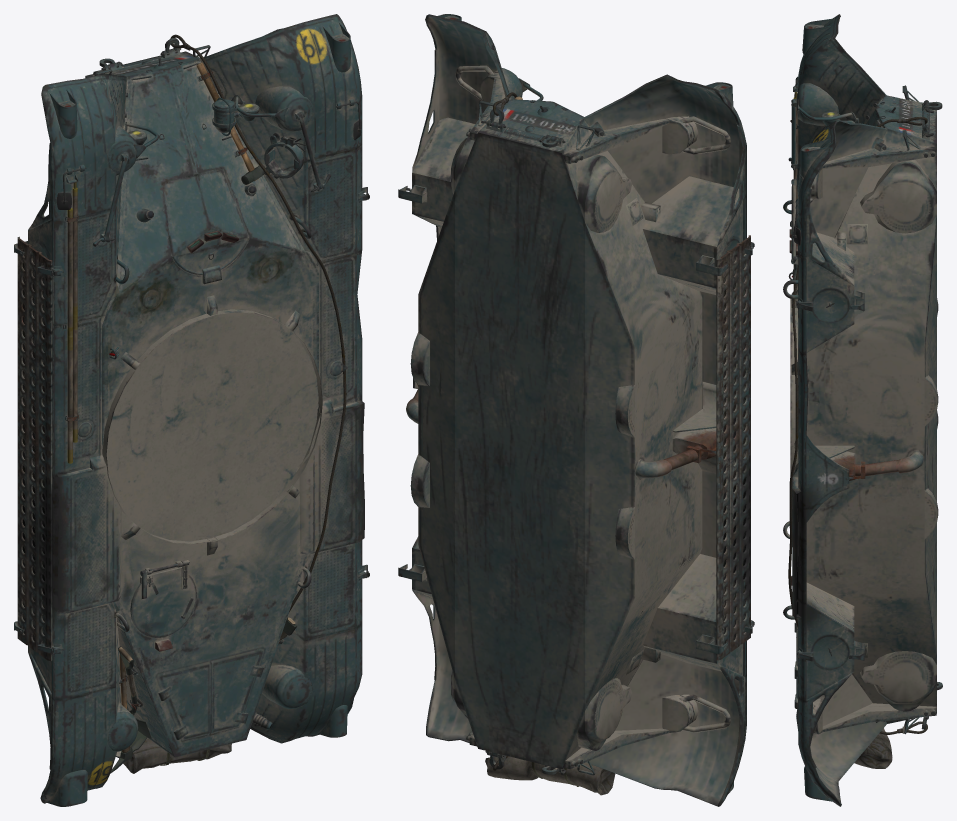
File: Hull.glb
3 views of the same model, side by side, from view 1: azimuth 30°, elevation 25°; view 2: azimuth 150°, elevation 25°; view 3: azimuth 270°, elevation 25° (orthographic). The views are drawn at different scales.
Parts seen in each view (by area): view 1: set_0_group_0; view 2: set_0_group_0; view 3: set_0_group_0.
Part boxes in pixels (box(x1,y1,x2,y2)): set_0_group_0: box(14, 14, 369, 806); set_0_group_0: box(398, 14, 754, 806); set_0_group_0: box(783, 14, 942, 806).
Size of the model in its own units: 2.56 by 5.38 by 1.16.
Materials: 1 (1 with a texture image).
